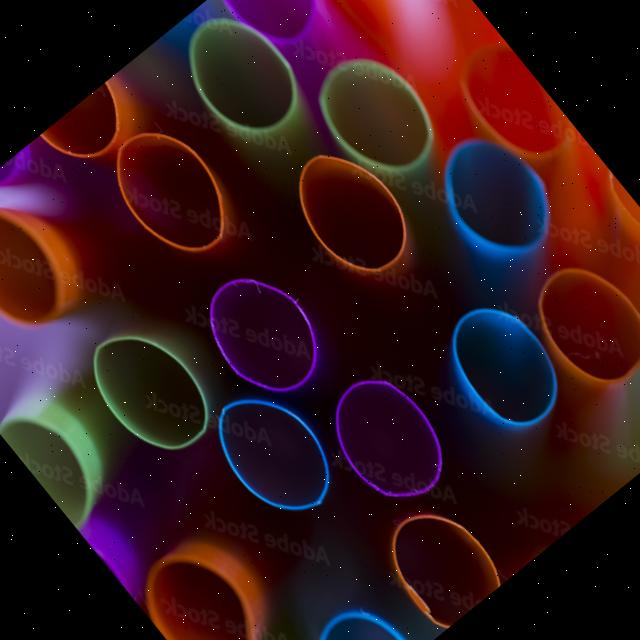plastic: (103, 483, 324, 640)
